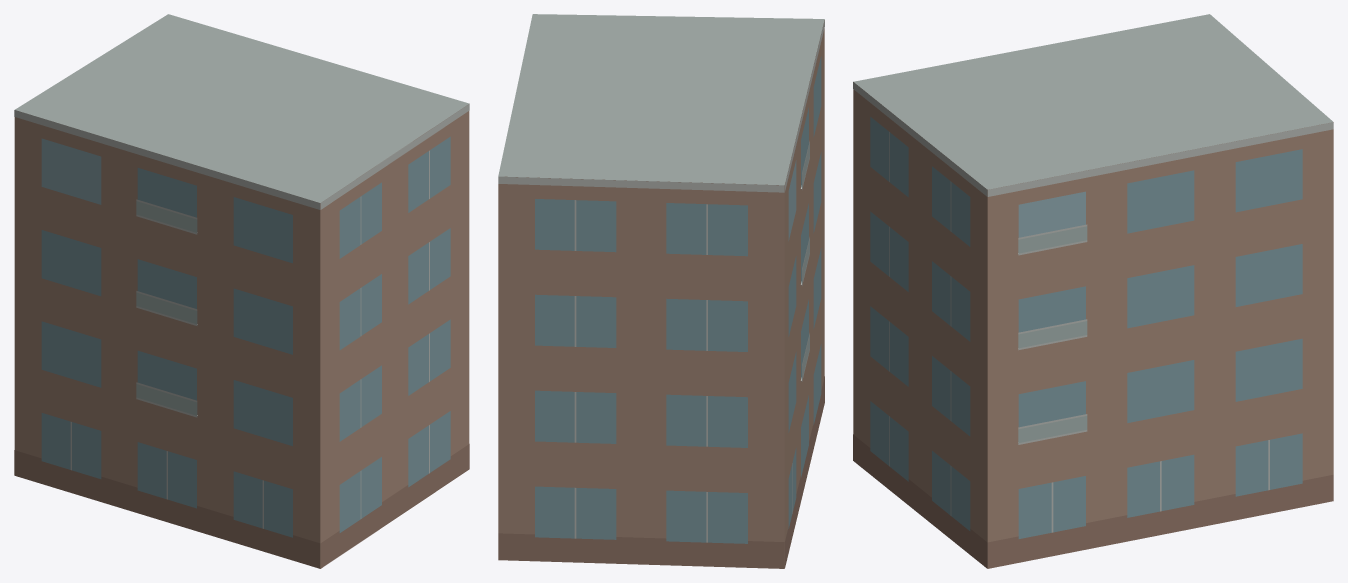
File: survey-upis-32669649.glb
3 views of the same model, side by side, from view 1: azimuth 30°, elevation 25°; view 2: azimuth 150°, elevation 25°; view 3: azimuth 270°, elevation 25° (orthographic). The views are drawn at different scales.
Visible parts, largest first — view 1: survey-upis-32669649.tmp; view 2: survey-upis-32669649.tmp; view 3: survey-upis-32669649.tmp.
Part boxes in pixels (x1,y1,x2,y2): survey-upis-32669649.tmp: (14, 14, 469, 568); survey-upis-32669649.tmp: (498, 14, 824, 568); survey-upis-32669649.tmp: (853, 14, 1333, 568).
Bounding box in the file's own units: 12.64 × 12.7 × 14.6.
